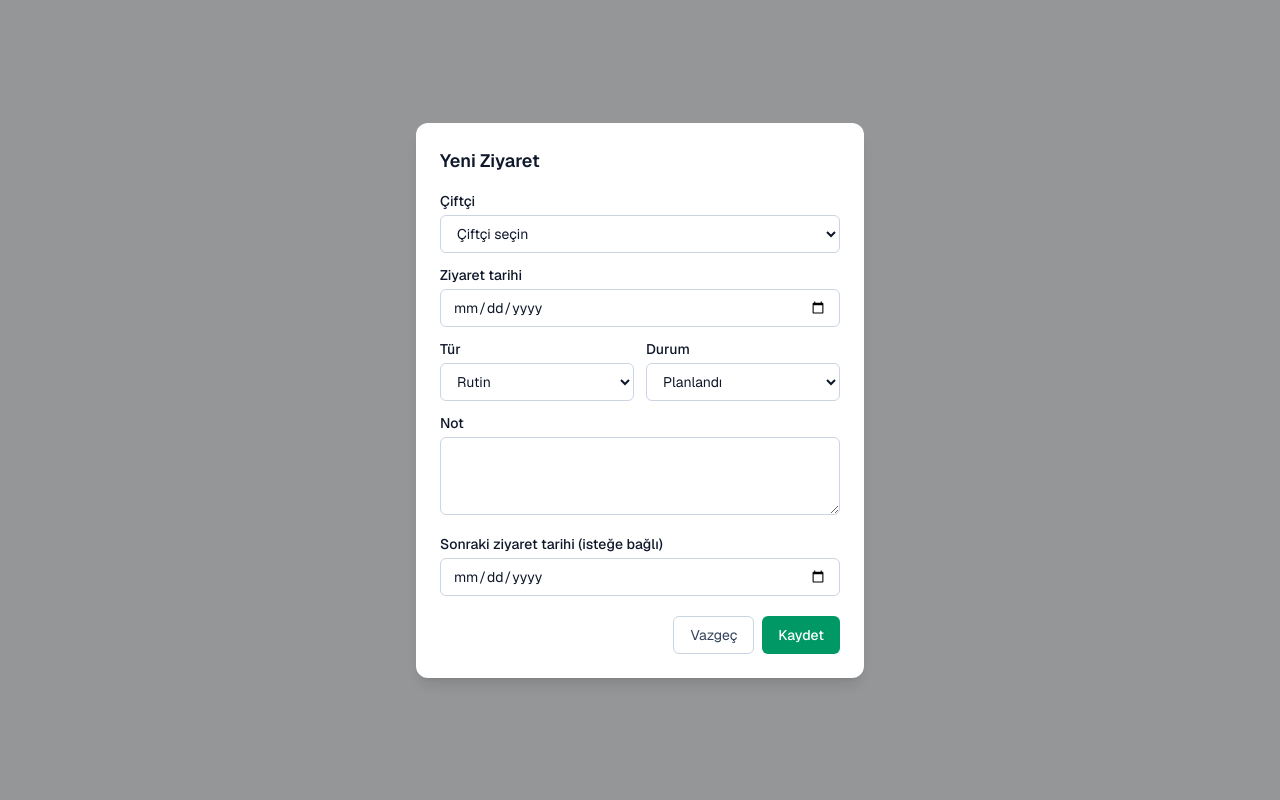
it: VisitFormModal › tamamlanan ziyarette not zorunludur
Select "Tamamlandı" in the dropdown labelled "Durum" at (743, 382), box [646,362,840,400]
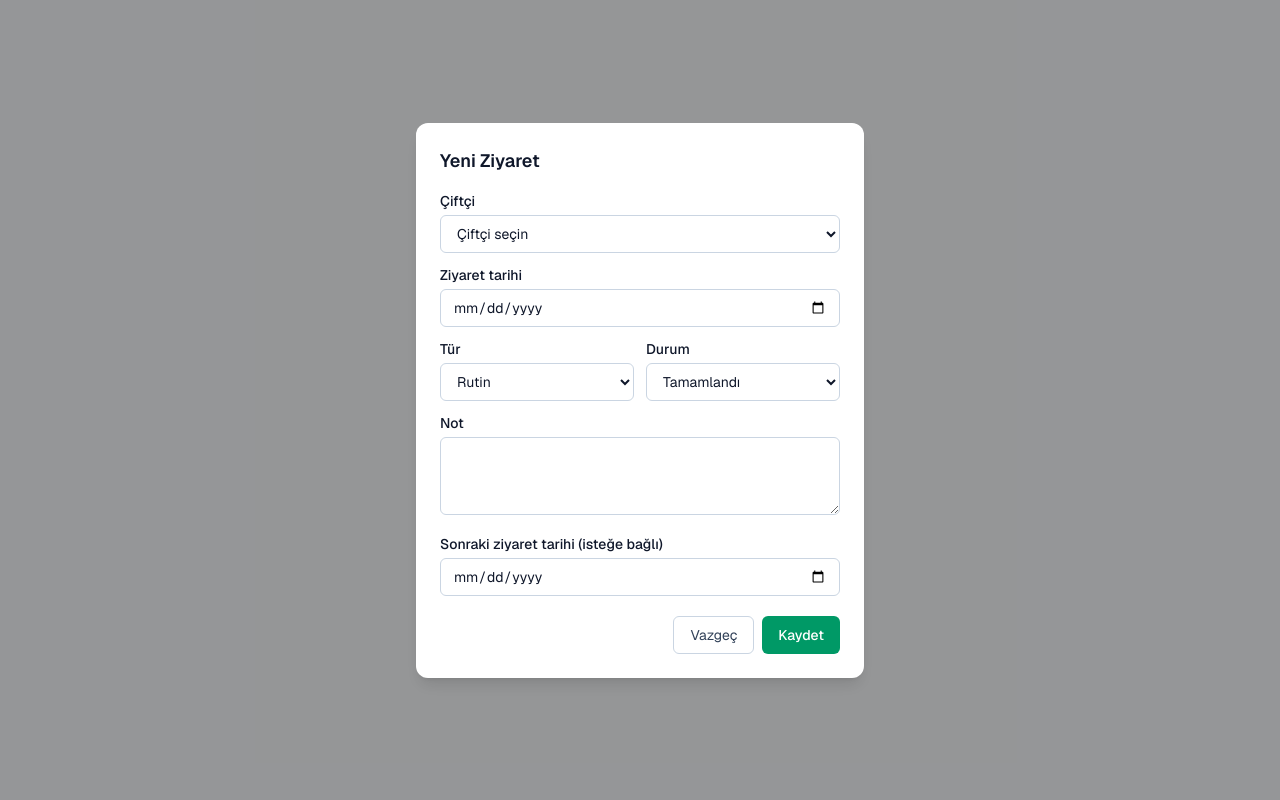
Click the button "Kaydet" at (801, 634), box [762,616,840,654]
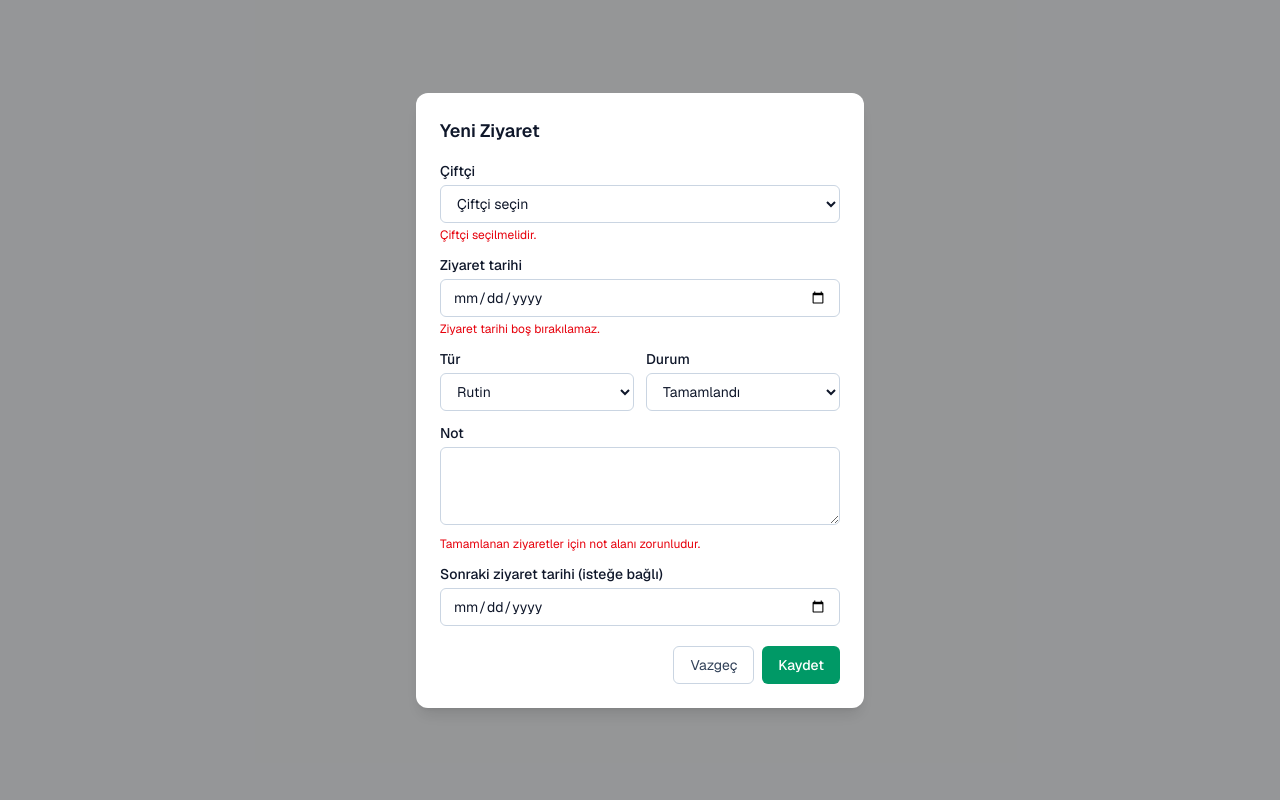
Expected: the text "Tamamlanan ziyaretler için not alanı zorunludur." is shown, [440,536,700,552]
